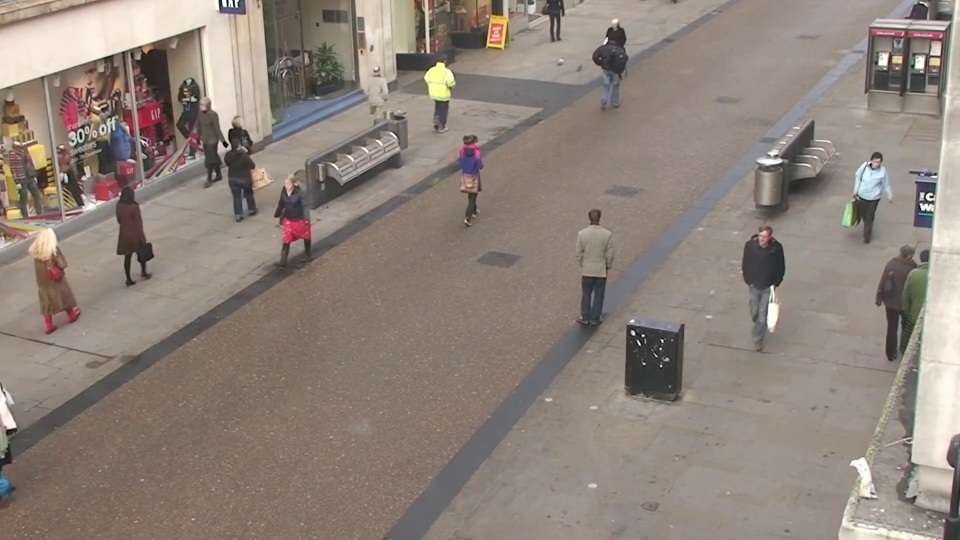pedestrian: (895, 239, 952, 370), (879, 234, 934, 363), (35, 216, 92, 336), (736, 225, 780, 350), (119, 179, 166, 288), (850, 147, 894, 253), (263, 175, 305, 285), (573, 201, 611, 321), (226, 131, 264, 229), (457, 123, 491, 221), (228, 109, 263, 201), (183, 100, 219, 189), (367, 61, 396, 141), (432, 50, 460, 127), (599, 27, 623, 98), (600, 18, 623, 87)
